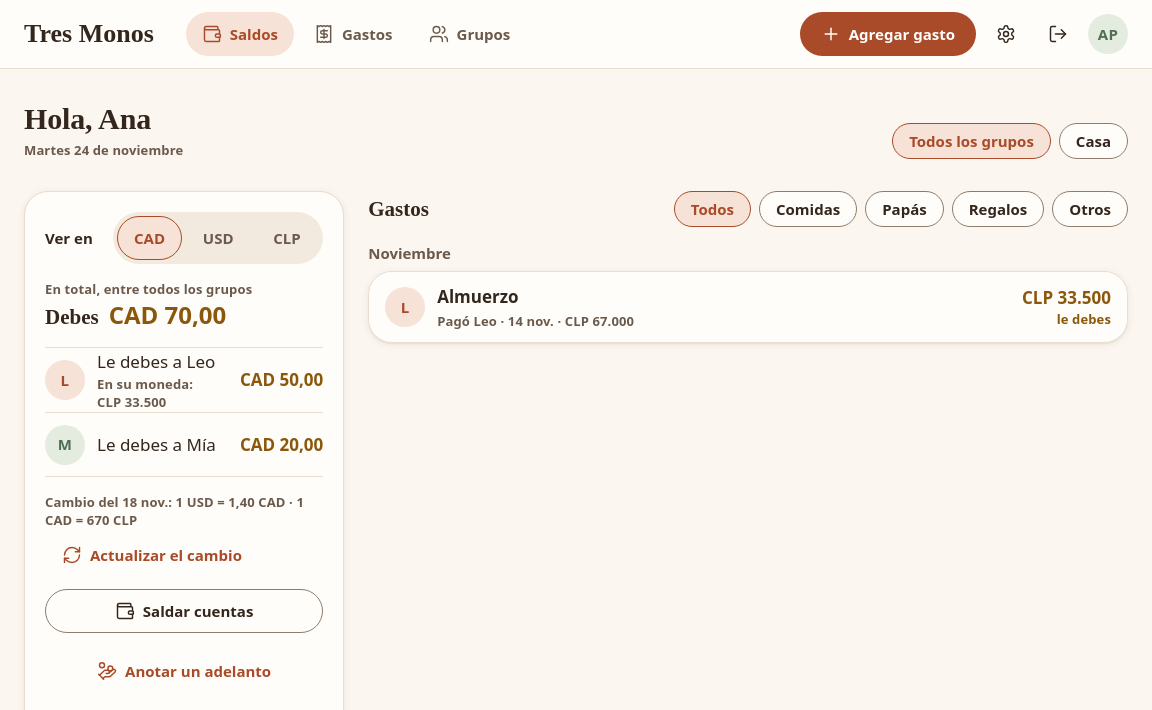
Test: DashboardScreen › settling up › does not move on to another person after a debt is cleared
Click the button "Saldar cuentas": (184, 611) [45,589,323,633]
(page scrolled)
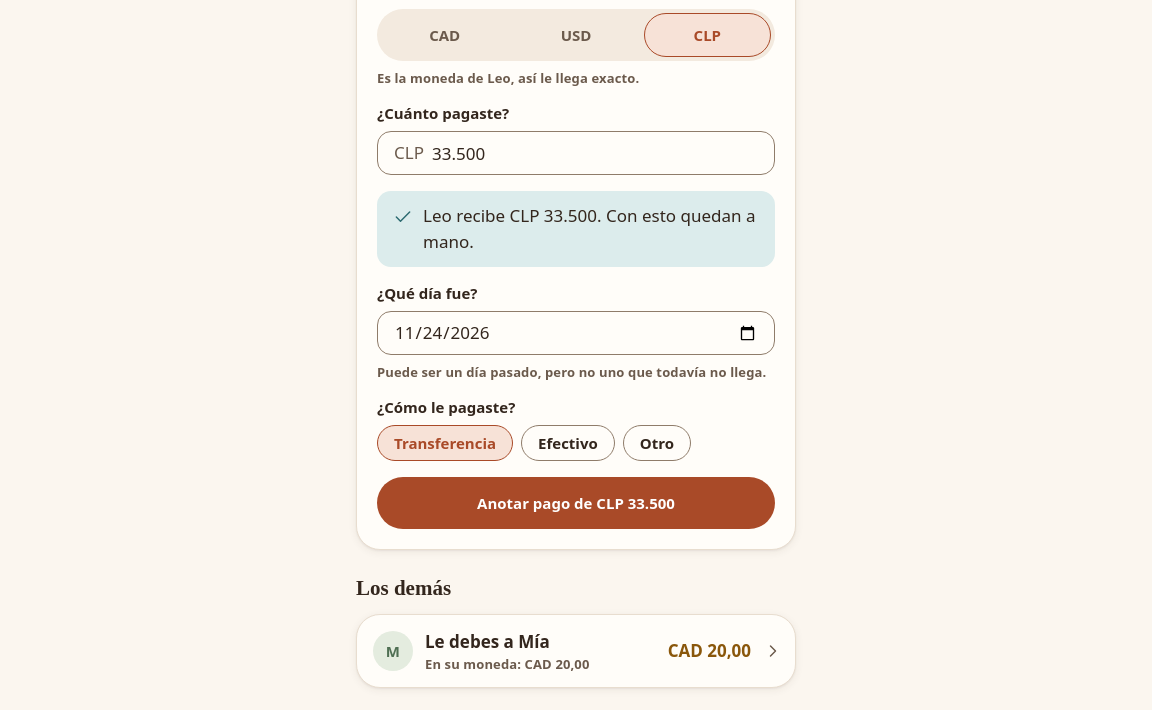
Click the button "Anotar pago de CLP 33.500": (576, 503) [377,477,775,529]
(page scrolled)
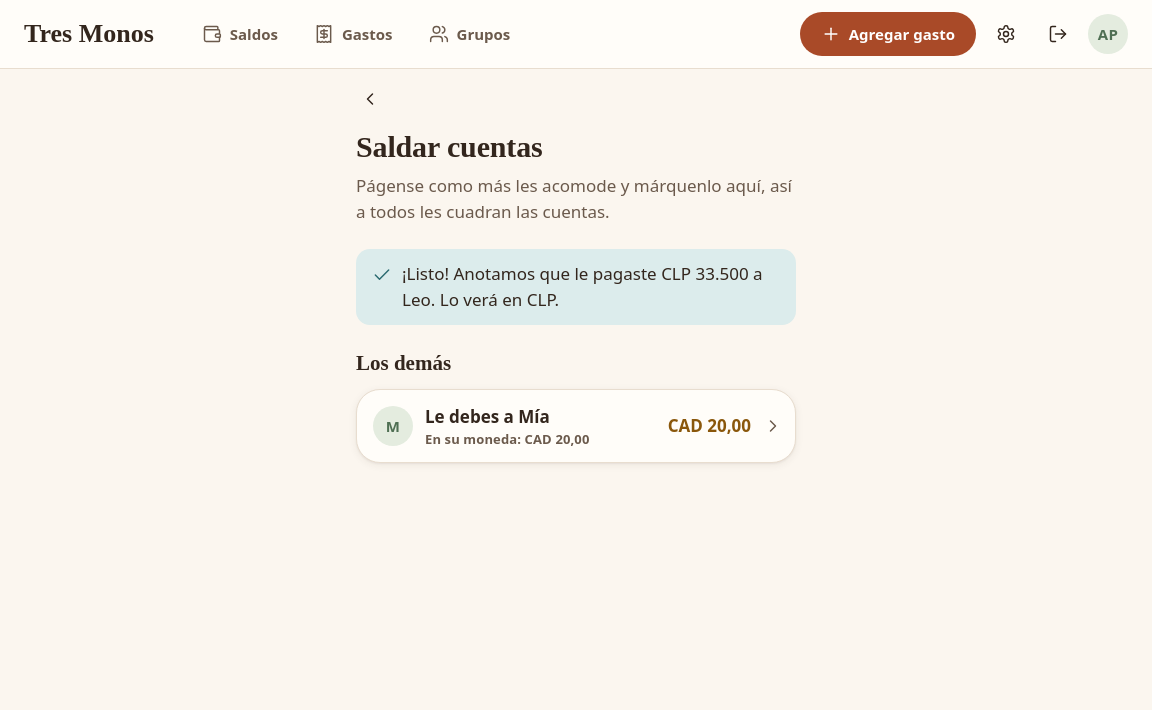
Check: the label labelled "¿Cuánto pagaste?" is gone
